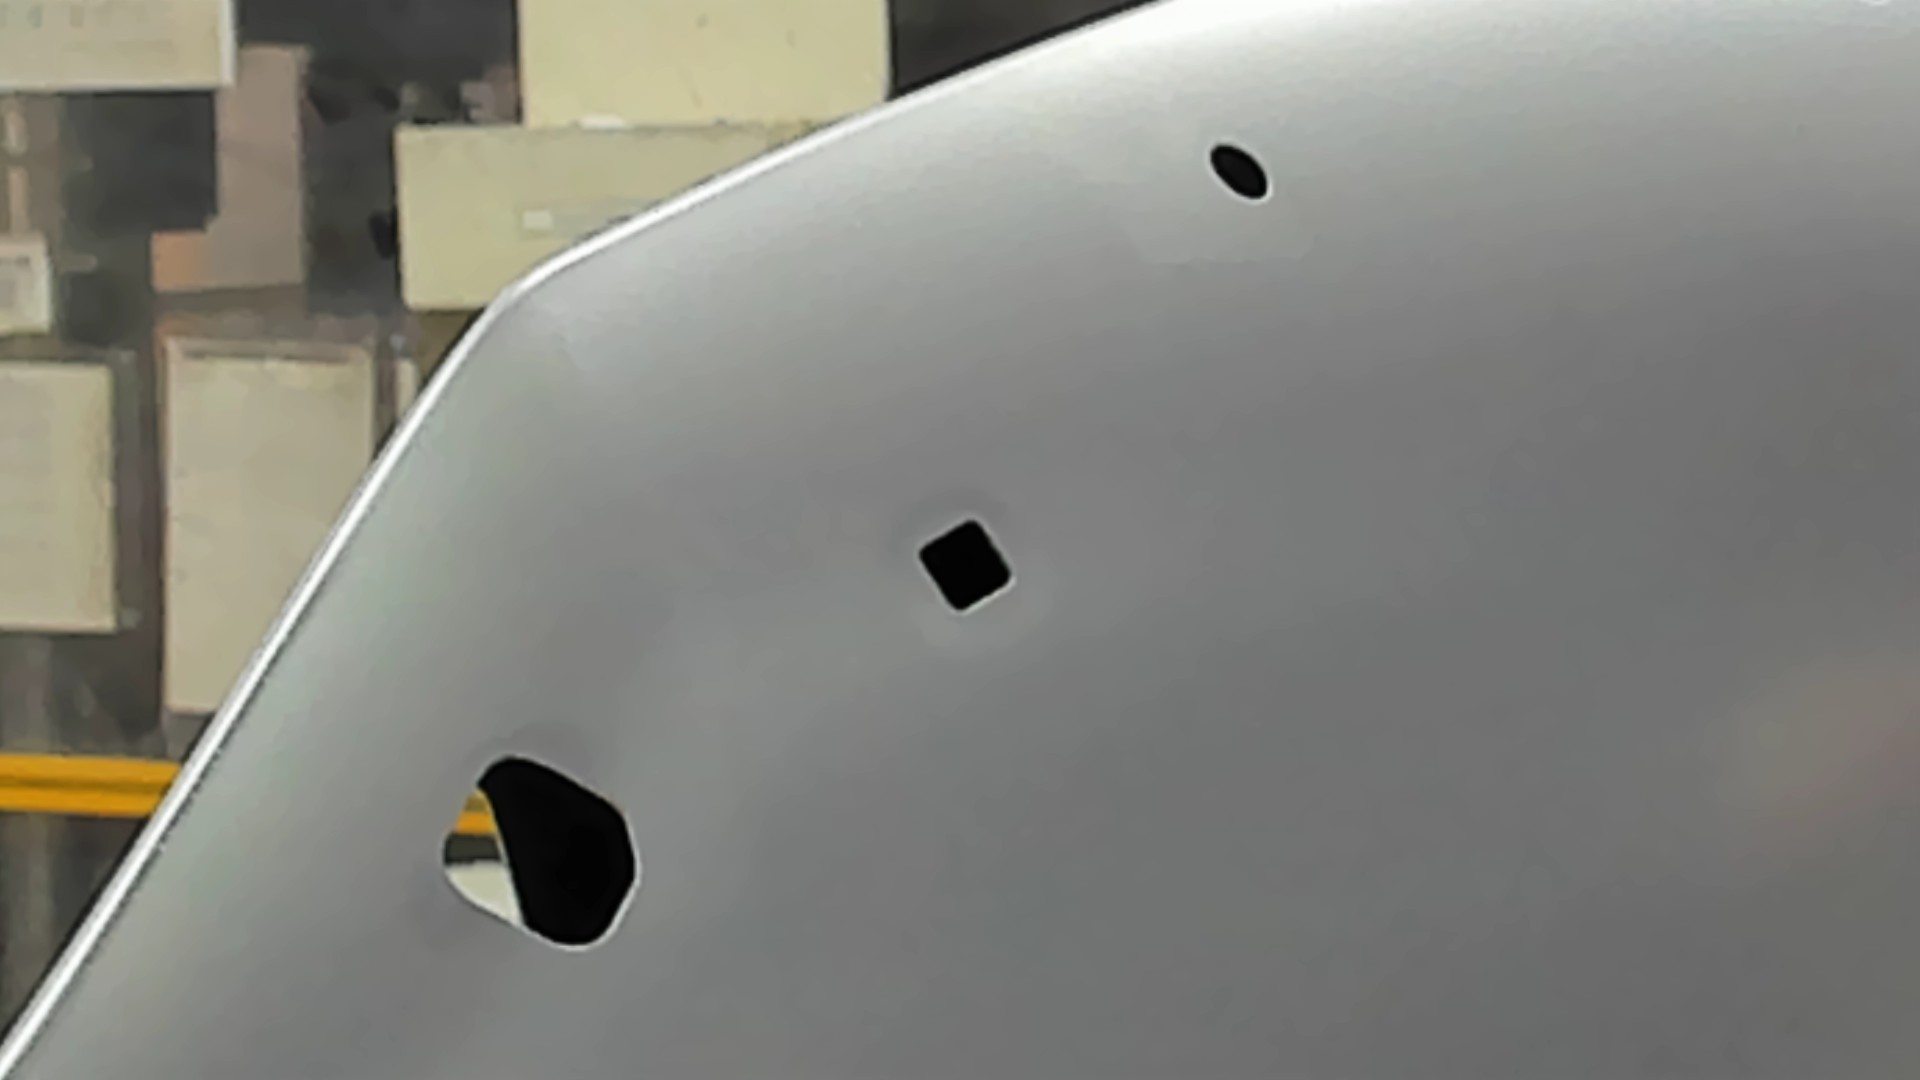chico: (1207, 137, 1273, 200)
grande: (436, 752, 645, 955)
mediano: (915, 517, 1019, 616)
